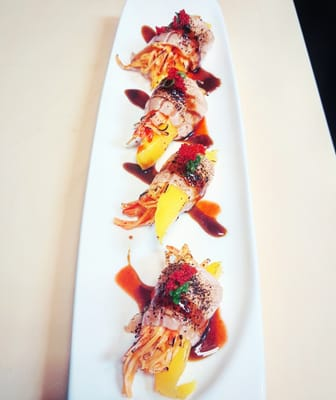pizza: (197, 199, 222, 218)
